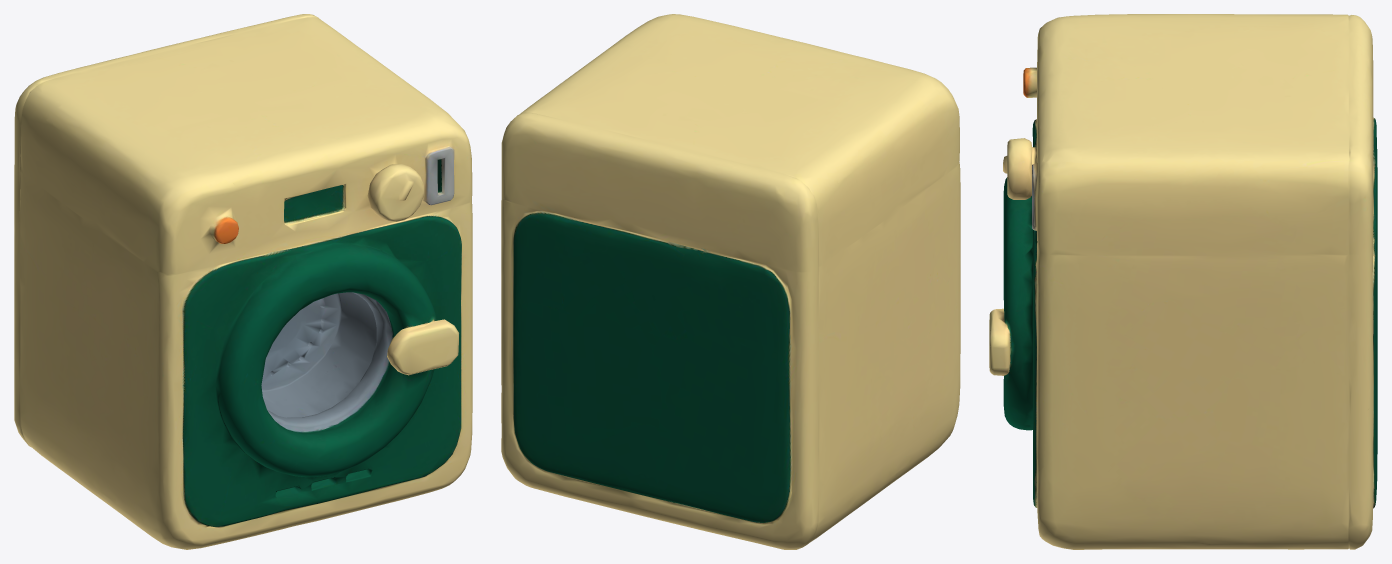
The model's file is Dryer.fbx.
3 views of the same model, side by side, from view 1: azimuth 30°, elevation 25°; view 2: azimuth 150°, elevation 25°; view 3: azimuth 270°, elevation 25° (orthographic). The views are drawn at different scales.
Visible parts, largest first — view 1: Dryer; view 2: Dryer; view 3: Dryer.
Boxes of the visible parts, box(x1,y1,x2,y2) form: Dryer: box(14, 14, 472, 549); Dryer: box(501, 14, 960, 549); Dryer: box(989, 14, 1377, 549).
Size of the model in its own units: 0.8792 by 1 by 0.8792.
Materials: 1 (1 with a texture image).
